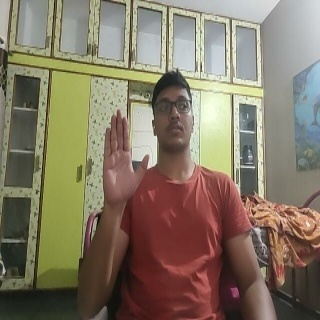Face: (149, 69, 197, 153)
Hello: (101, 108, 151, 210)
